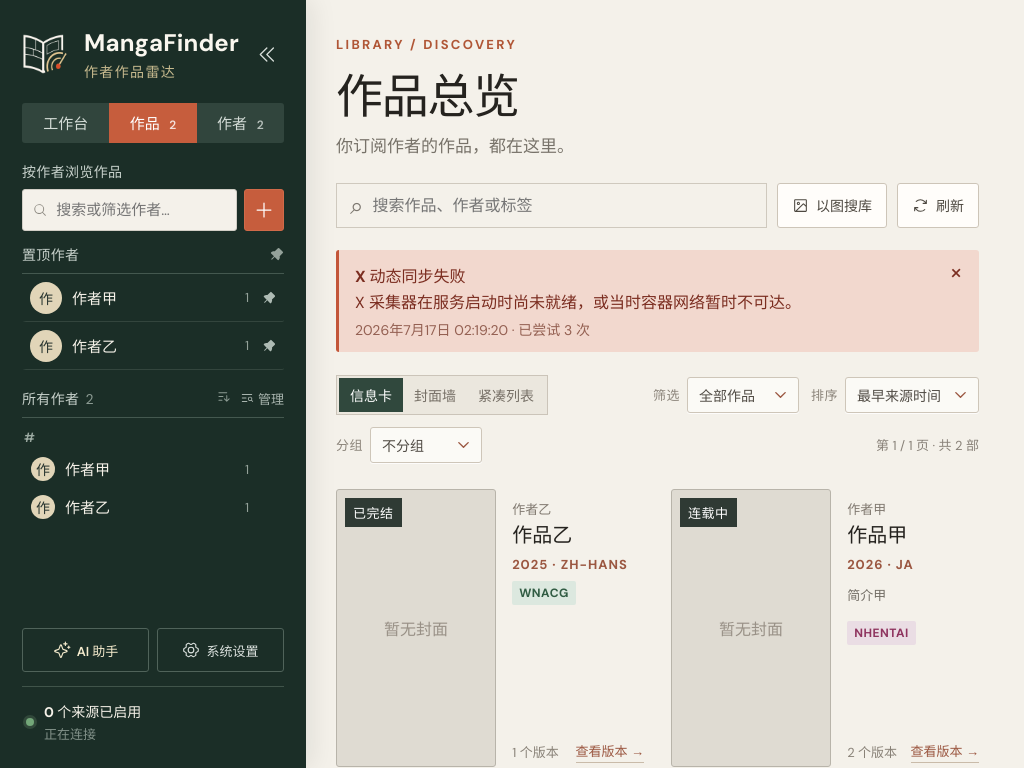
Test case: catalog views › explains, timestamps, and dismisses a failed task without hiding newer failures
Later steps or results of the test are not shown.
Check: the text "X 动态同步失败" is shown, box left=355, top=266, right=466, bottom=287
Check: the text "X 采集器在服务启动时尚未就绪，或当时容器网络暂时不可达。" is shown, box left=355, top=291, right=801, bottom=315
Click the button named "关闭任务失败提示". click: (956, 272)
box: left=942, top=258, right=970, bottom=286
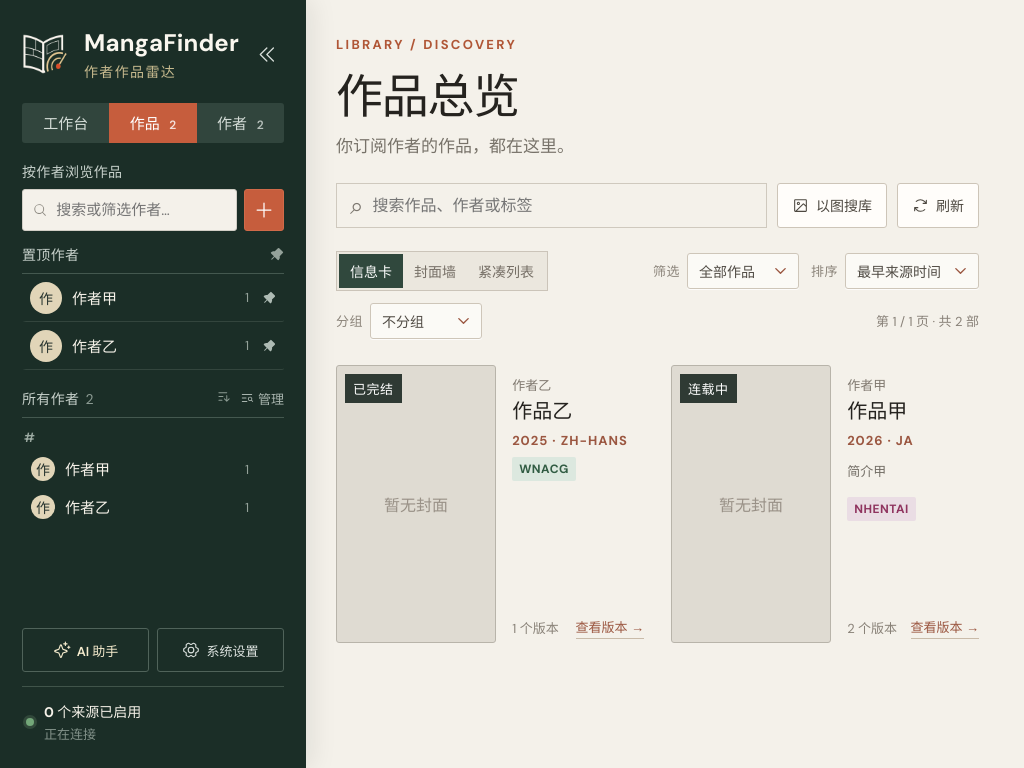
Check: the text "X 动态同步失败" is gone
